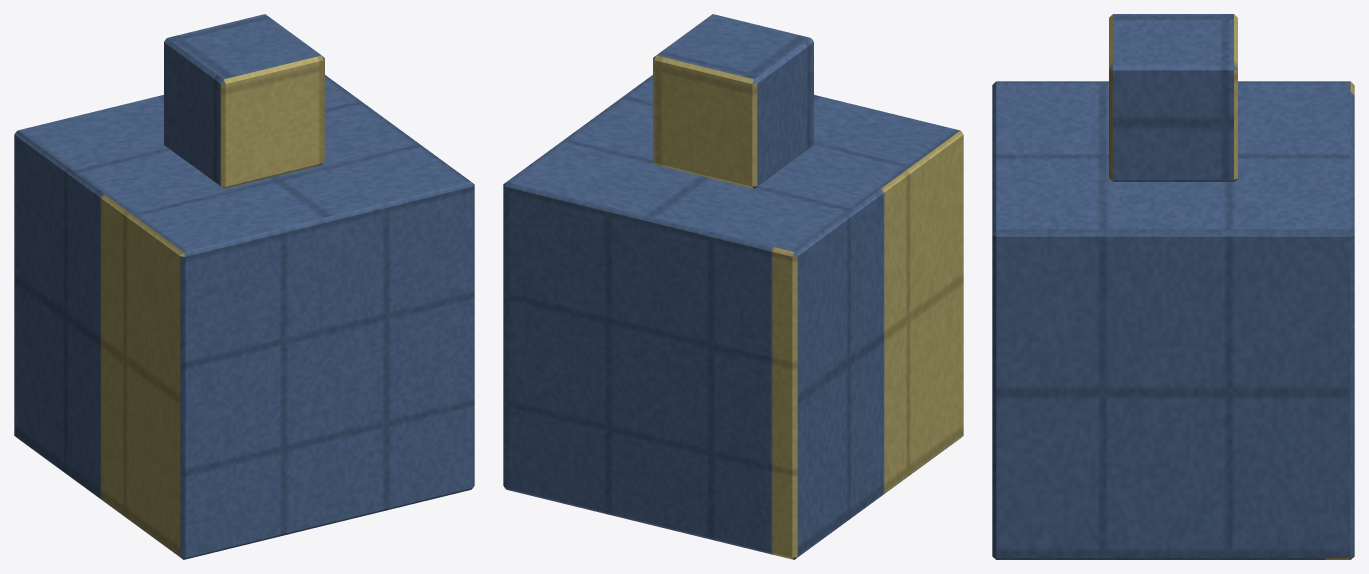
3 renders of one model, left to right at view 1: azimuth 30°, elevation 25°; view 2: azimuth 150°, elevation 25°; view 3: azimuth 270°, elevation 25°, orthographic. The views are drawn at different scales.
Visible parts, largest first — view 1: hq; view 2: hq; view 3: hq.
Part boxes in pixels (box(x1,y1,x2,y2)): hq: box(14, 14, 474, 559); hq: box(503, 14, 963, 559); hq: box(992, 14, 1354, 559).
Size of the model in its own units: 0.9 by 1.22 by 0.9.
1 material, 1 textured.
